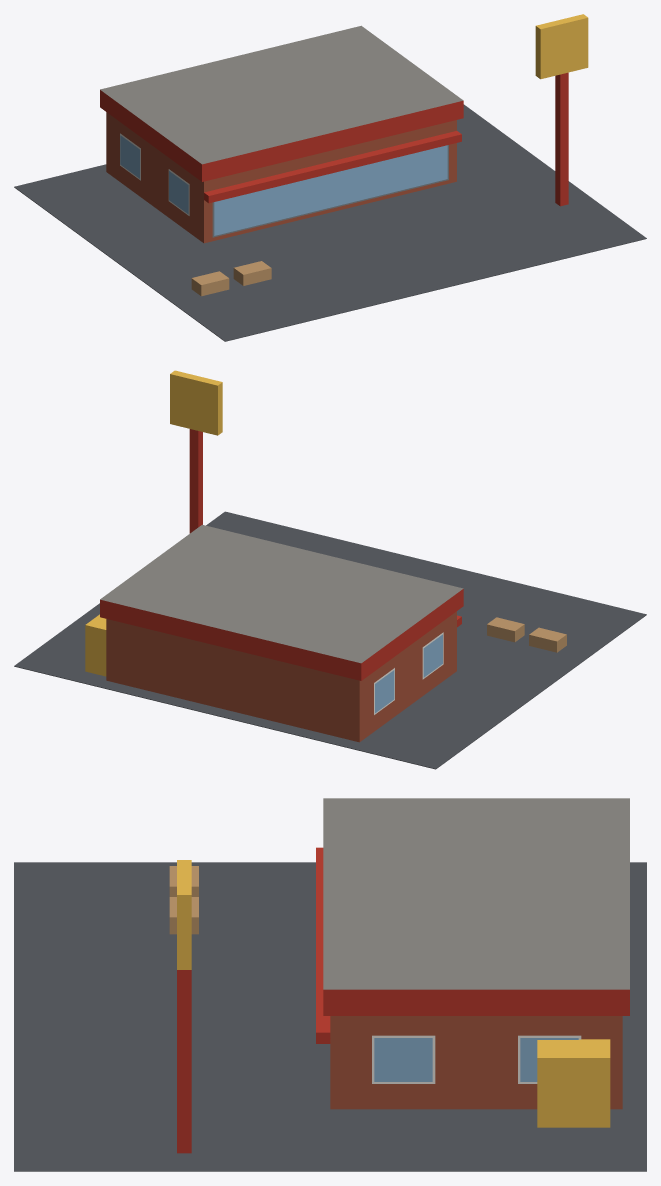
The model's file is fastfood_drive.glb.
The picture shows the model from 3 angles, top to bottom: view 1: azimuth 30°, elevation 25°; view 2: azimuth 150°, elevation 25°; view 3: azimuth 270°, elevation 25°; orthographic projection. The views are drawn at different scales.
Parts seen in each view (by area): view 1: fastfood_drive; view 2: fastfood_drive; view 3: fastfood_drive.
Boxes of the visible parts, left/top/right/bottom form: fastfood_drive: left=14, top=14, right=646, bottom=341; fastfood_drive: left=14, top=370, right=646, bottom=769; fastfood_drive: left=14, top=798, right=646, bottom=1171.
Size of the model in its own units: 30 by 12.4 by 26.
Materials: 1 (1 with a texture image).
